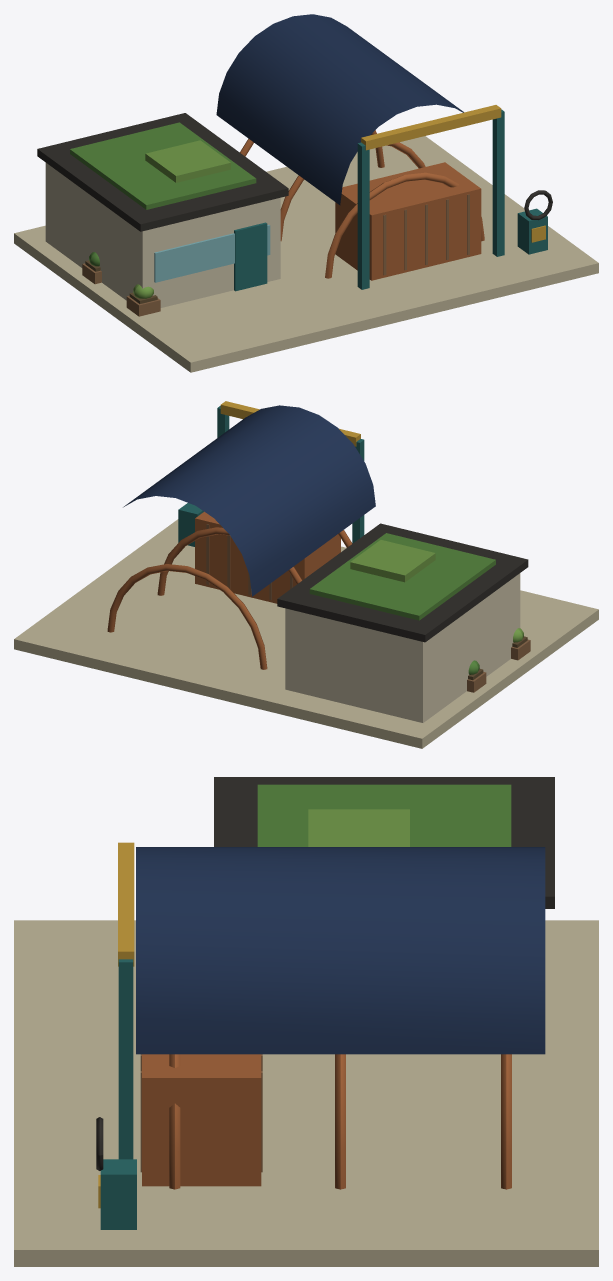
File: b01-ferry-terminal-v2-lod0.glb
3 views of the same model, one above another, from view 1: azimuth 30°, elevation 25°; view 2: azimuth 150°, elevation 25°; view 3: azimuth 270°, elevation 25° (orthographic). The views are drawn at different scales.
Visible parts, largest first — view 1: MESH_B01_FERRY_TERMINAL; view 2: MESH_B01_FERRY_TERMINAL; view 3: MESH_B01_FERRY_TERMINAL.
Boxes of the visible parts, left/top/right/bottom form: MESH_B01_FERRY_TERMINAL: left=14, top=14, right=598, bottom=372; MESH_B01_FERRY_TERMINAL: left=14, top=401, right=598, bottom=748; MESH_B01_FERRY_TERMINAL: left=14, top=777, right=598, bottom=1266.
Bounding box in the file's own units: 16 × 6.55 × 12.
